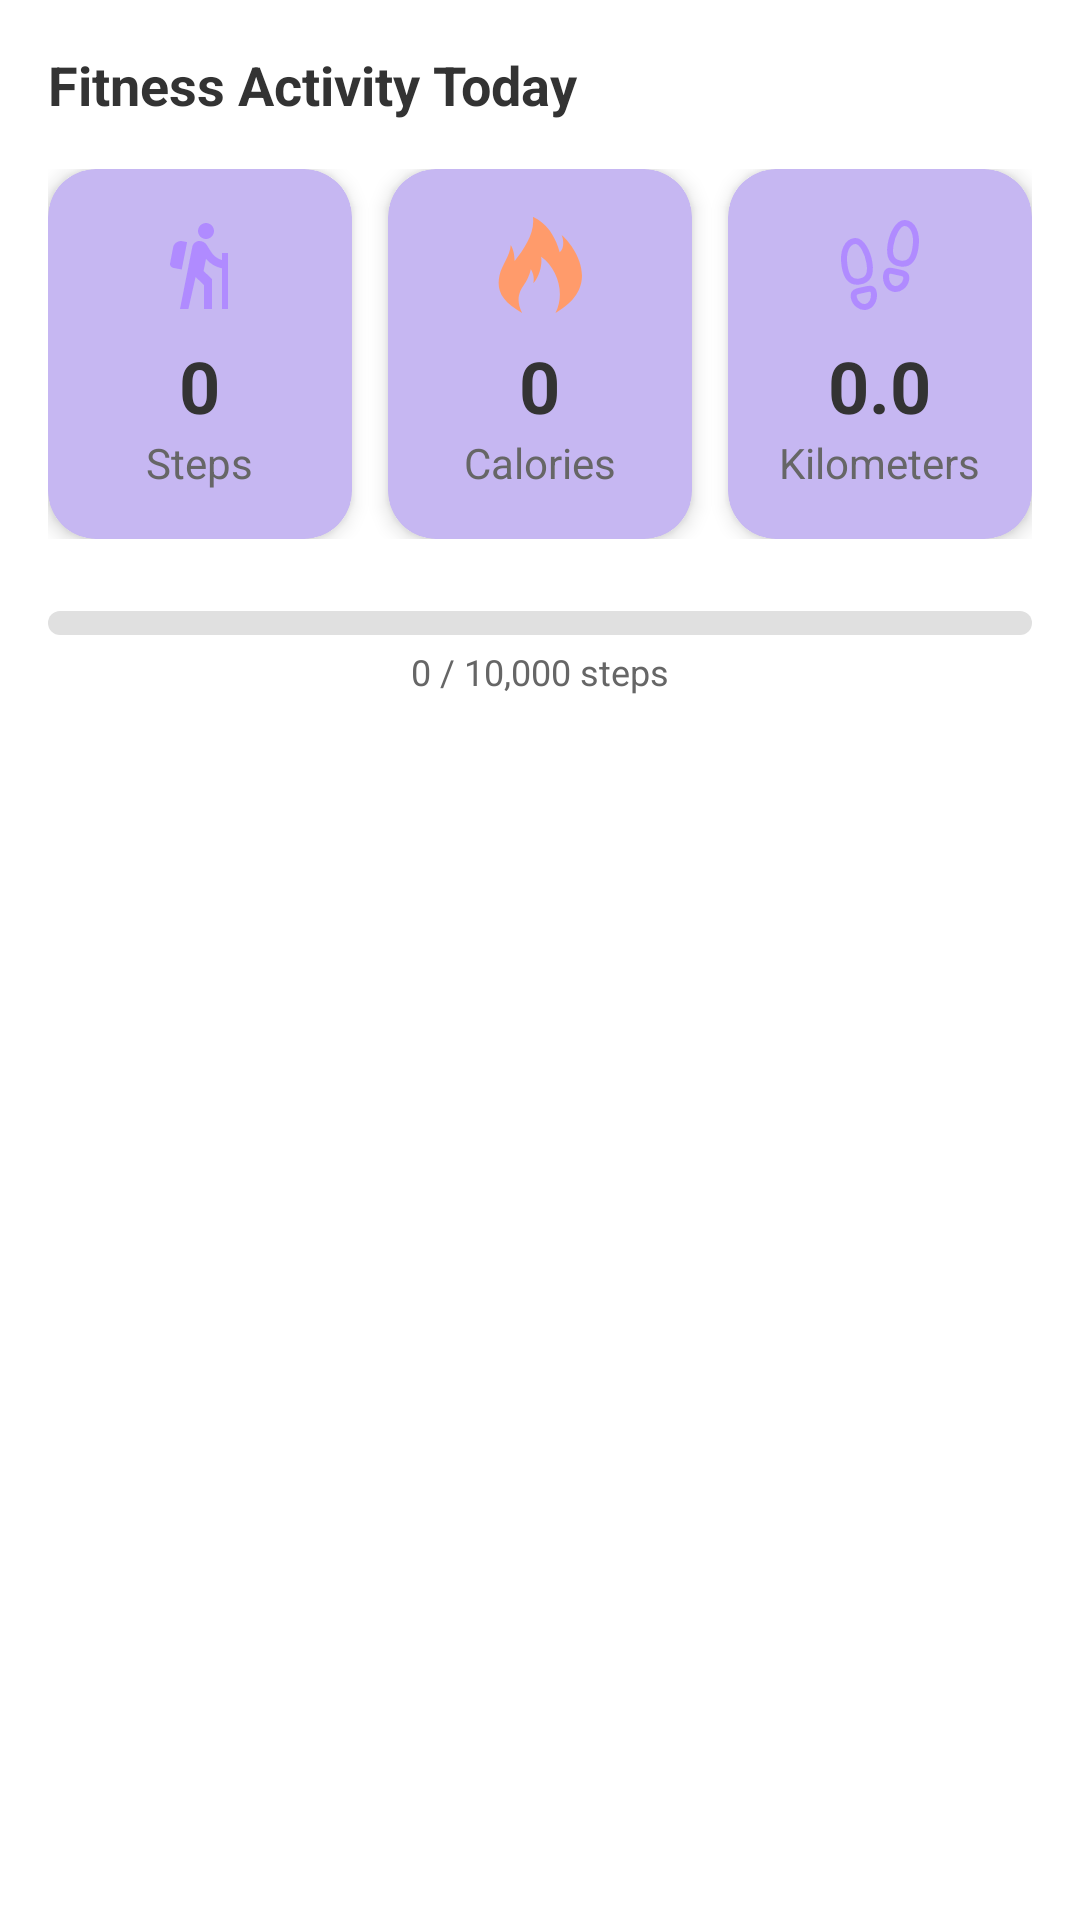

Named icons in this screenshot (1080w x 1920h) and their bounding boxes, [x1,y1,x2,y2]:
distance: [841,220,919,310]
fire: [498,217,582,313]
walking: [170,223,228,309]
